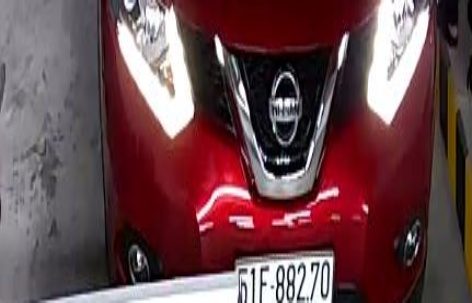plate: (232, 253, 335, 302)
